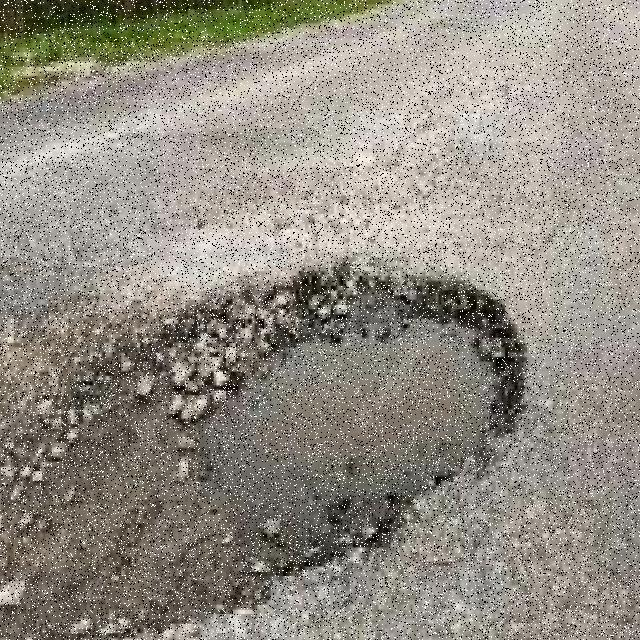pothole: (109, 271, 524, 624)
